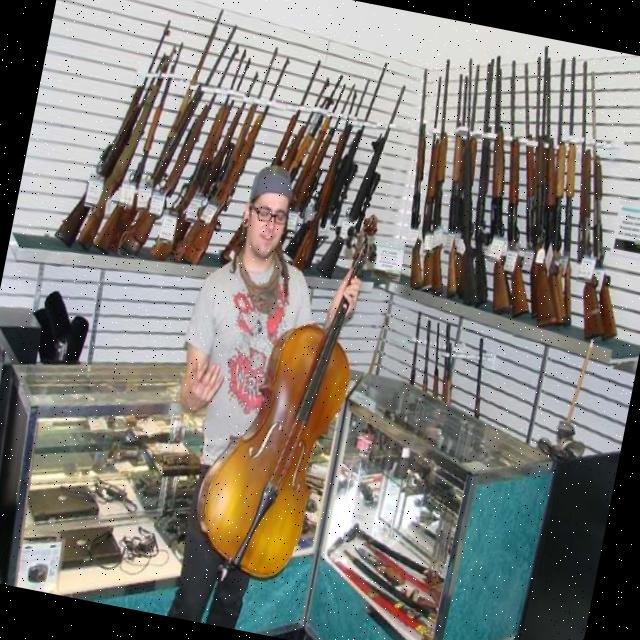cello: (185, 187, 386, 592)
